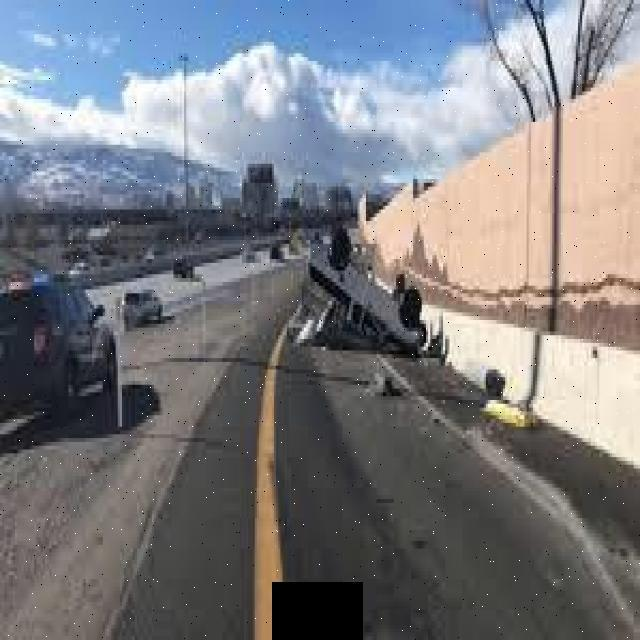single accident: (277, 203, 448, 385)
